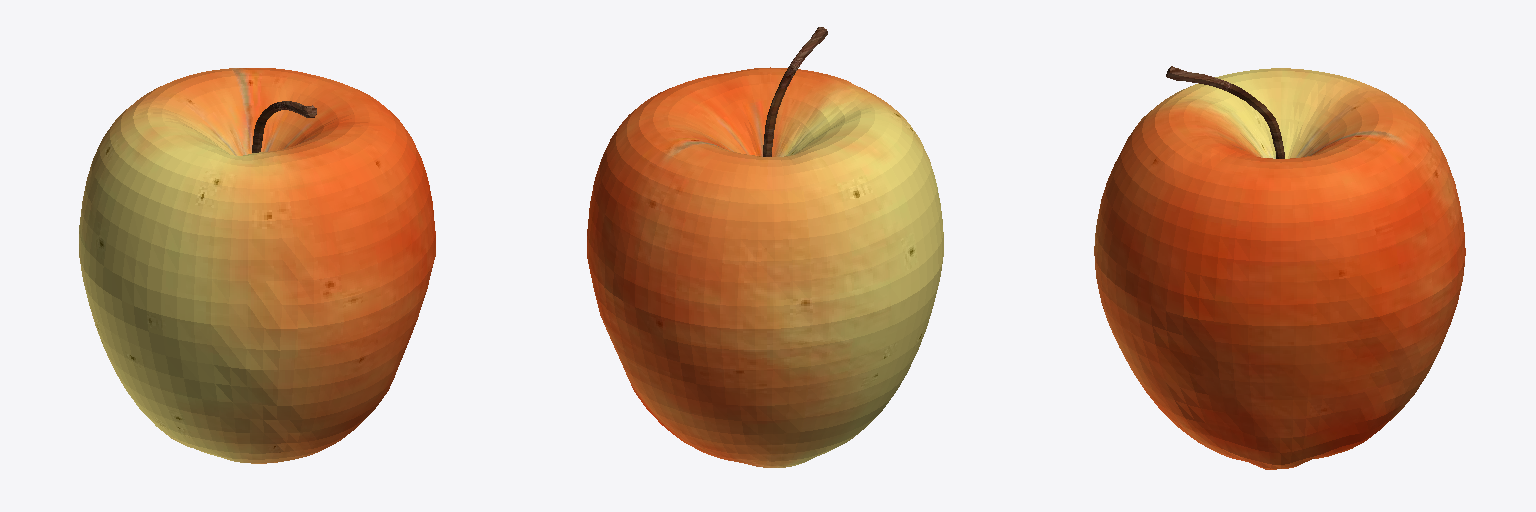
3 views of the same model, side by side, from view 1: azimuth 30°, elevation 25°; view 2: azimuth 150°, elevation 25°; view 3: azimuth 270°, elevation 25° (orthographic).
Parts seen in each view (by area): view 1: apple_skin, apple_stem; view 2: apple_skin, apple_stem; view 3: apple_skin, apple_stem.
Part boxes in pixels (left/top/right/bottom): apple_skin: left=79, top=68, right=435, bottom=463; apple_stem: left=252, top=101, right=316, bottom=152; apple_skin: left=587, top=67, right=943, bottom=467; apple_stem: left=763, top=27, right=827, bottom=156; apple_skin: left=1094, top=68, right=1465, bottom=469; apple_stem: left=1166, top=66, right=1284, bottom=158.
Bounding box in the file's own units: 65.38 × 77.56 × 68.95.
Materials: 2 (2 with a texture image).